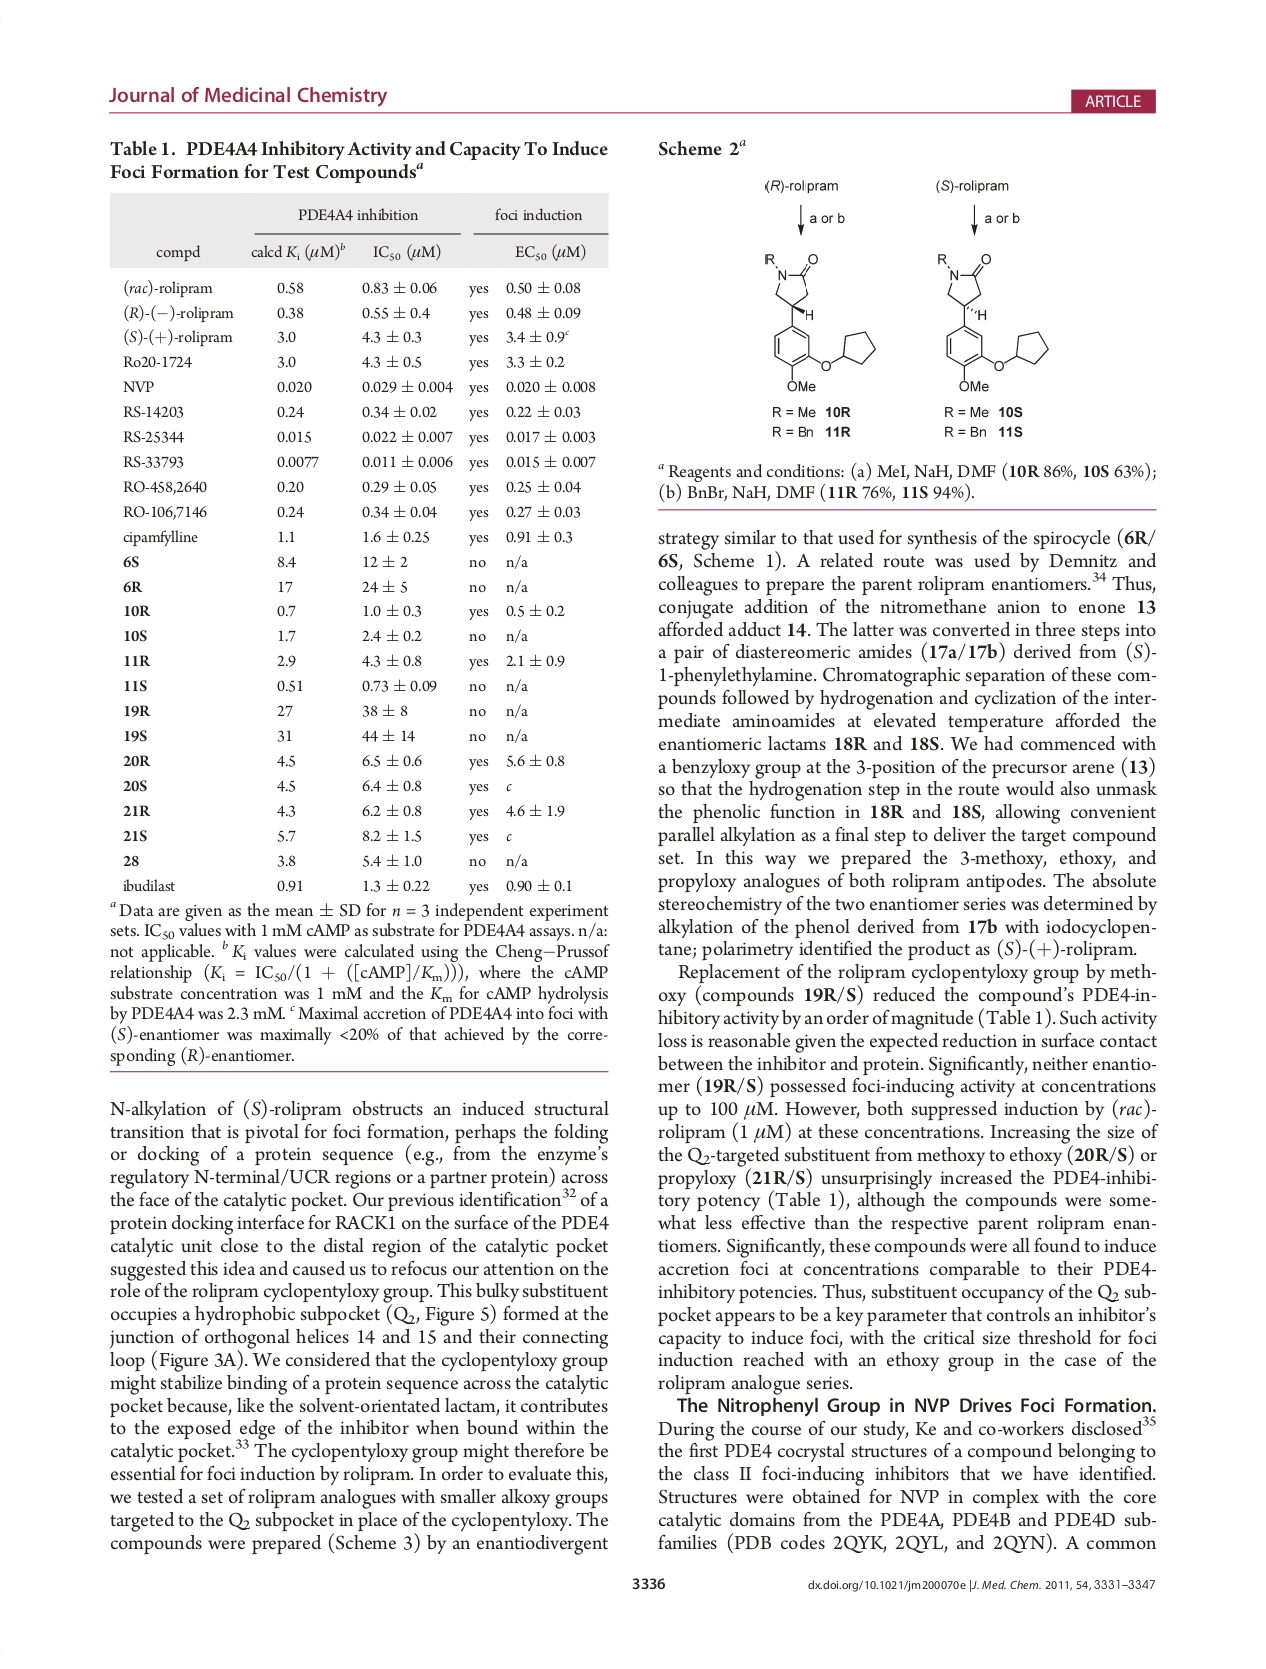exist_molecular: (931, 250, 1051, 396), (759, 250, 879, 395)
